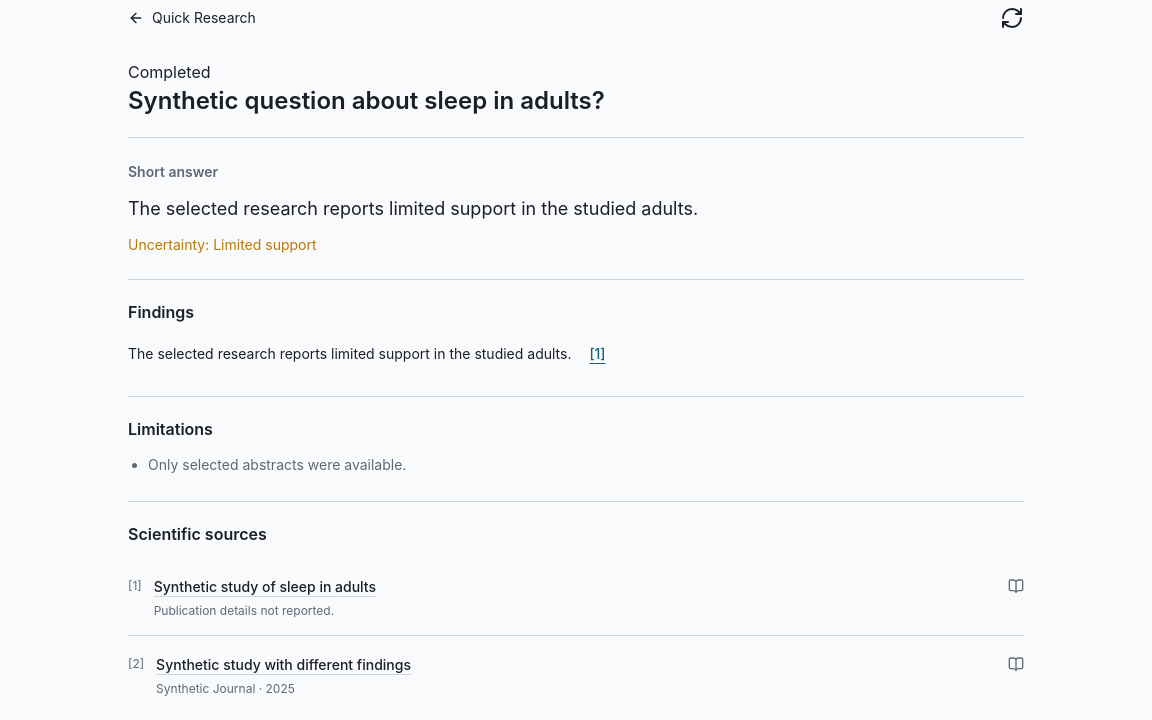
Scenario: Quick result presentation › leaves missing metadata absent and preserves year-only date precision
This screenshot has width=1152, height=720.
Click the button "Synthetic study of sleep in adults": [265, 587] box [154, 575, 376, 599]
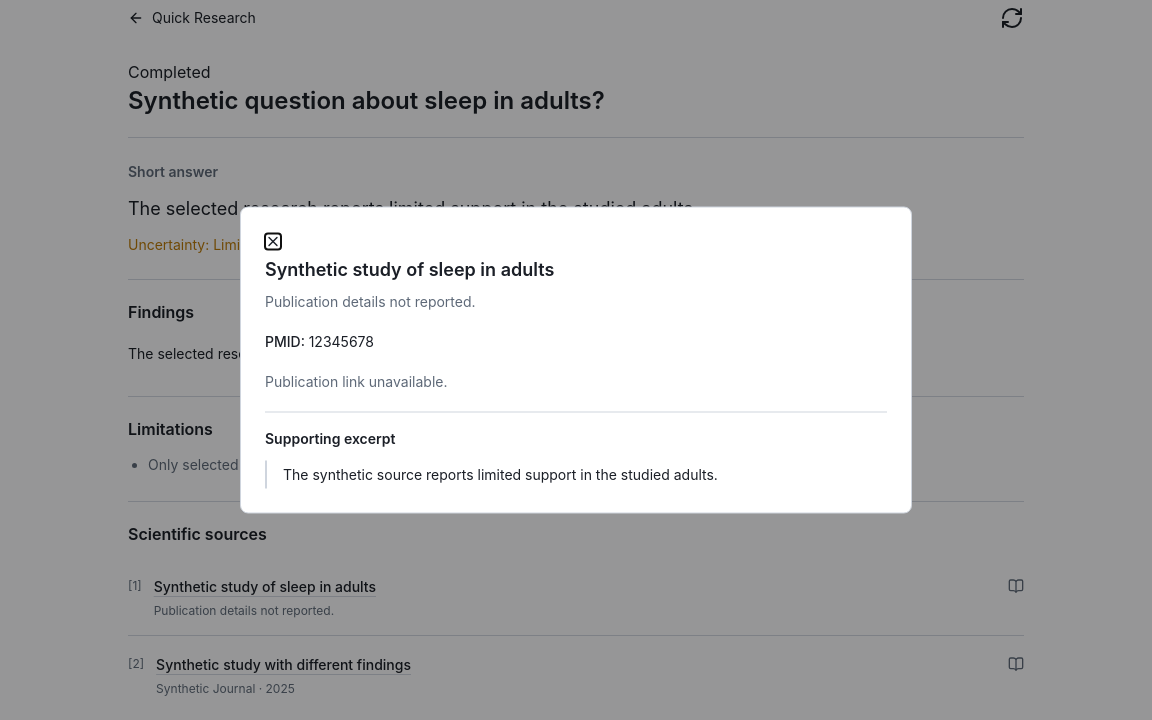
Expected: the text "Publication details not reported." is shown, [265, 292, 476, 310]
Expected: the text "Publication link unavailable." is shown, [265, 372, 448, 390]
